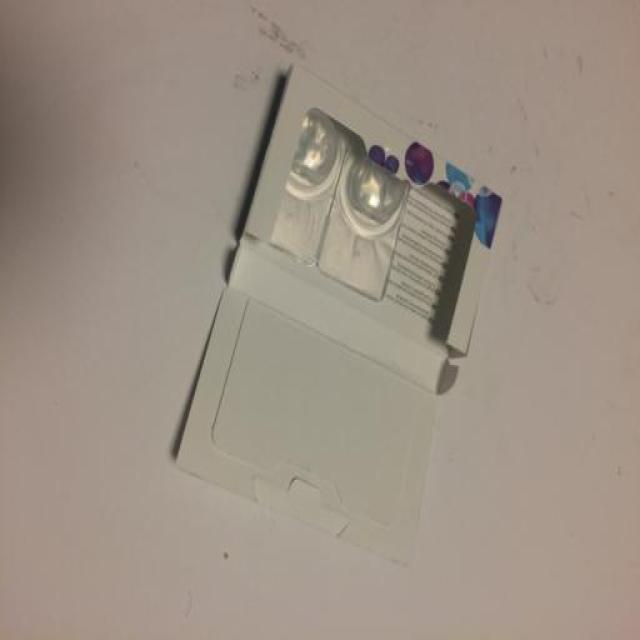Random Trash: (172, 63, 501, 565)
